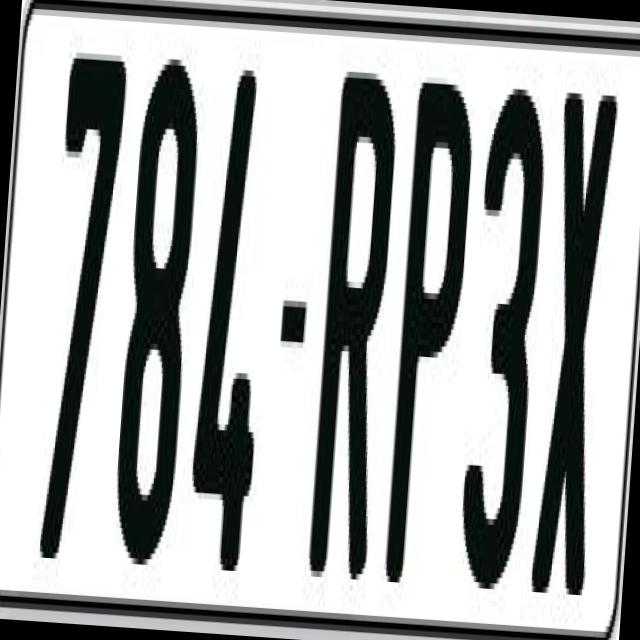3: (456, 69, 556, 596)
4: (183, 56, 279, 560)
7: (31, 40, 122, 566)
8: (111, 46, 212, 555)
P: (384, 65, 482, 603)
R: (308, 59, 401, 586)
X: (530, 80, 626, 596)
